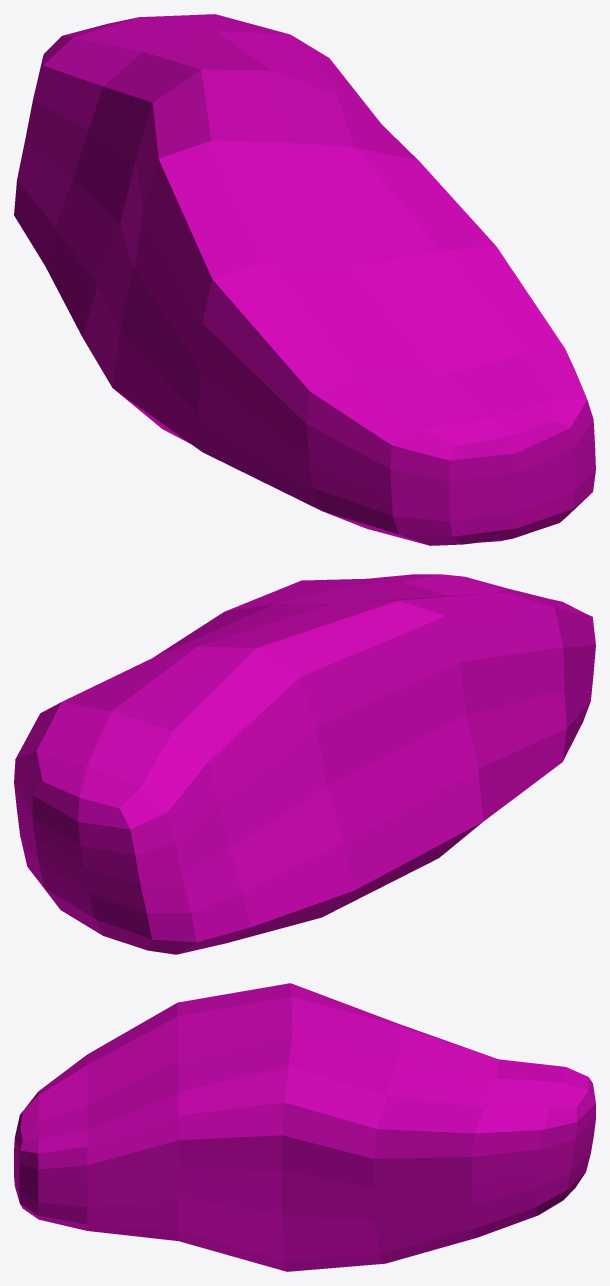
The model's file is piedras_puzzle_rosa.fbx.
3 views of the same model, one above another, from view 1: azimuth 30°, elevation 25°; view 2: azimuth 150°, elevation 25°; view 3: azimuth 270°, elevation 25° (orthographic). The views are drawn at different scales.
Parts seen in each view (by area): view 1: piedra2.002; view 2: piedra2.002; view 3: piedra2.002.
Part boxes in pixels (left/top/right/bottom): piedra2.002: left=14, top=14, right=595, bottom=545; piedra2.002: left=14, top=574, right=595, bottom=954; piedra2.002: left=14, top=983, right=595, bottom=1271.
Bounding box in the file's own units: 27.61 × 24.49 × 59.02.
